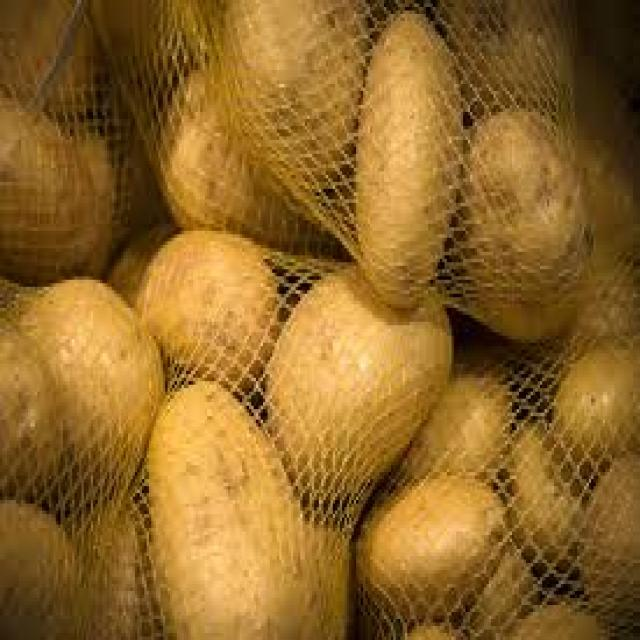Potato: (263, 262, 458, 483), (144, 384, 311, 640), (16, 278, 159, 476), (464, 101, 589, 325), (356, 11, 452, 294), (0, 91, 128, 287), (359, 469, 503, 611), (135, 226, 264, 376), (548, 357, 640, 469)
